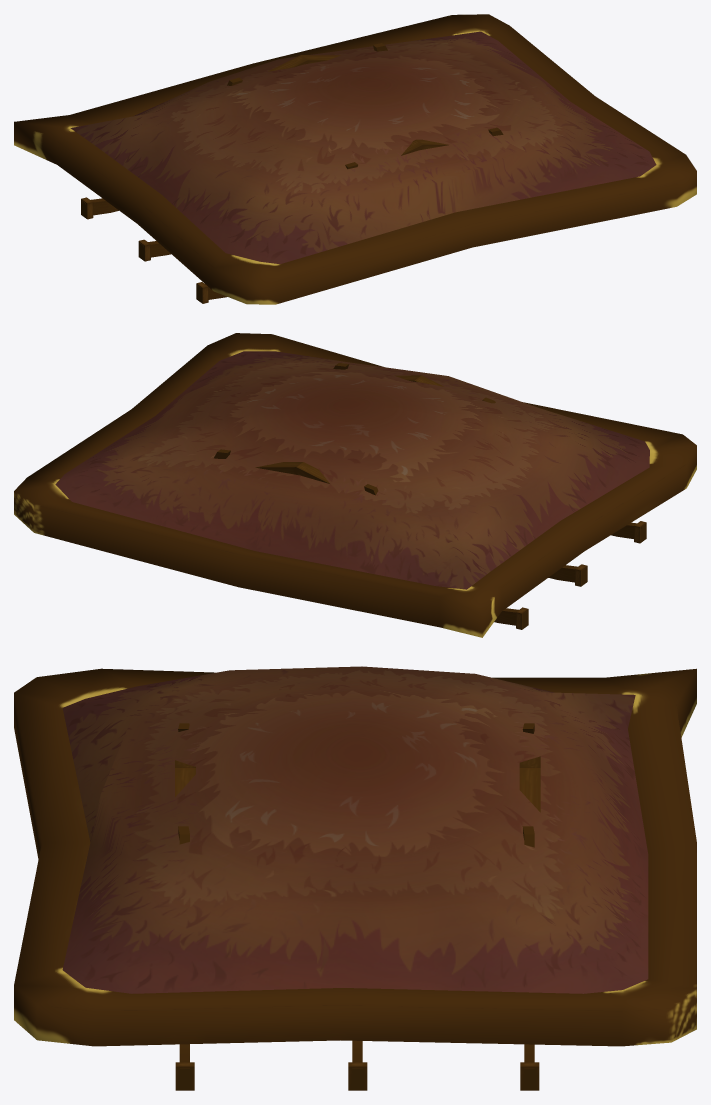
Rendered from Roof.fbx.
The picture shows the model from 3 angles, top to bottom: view 1: azimuth 30°, elevation 25°; view 2: azimuth 150°, elevation 25°; view 3: azimuth 270°, elevation 25°; orthographic projection. The views are drawn at different scales.
Parts seen in each view (by area): view 1: roof; view 2: roof; view 3: roof.
Boxes of the visible parts, x1=… form: roof: x1=14, y1=14, x2=696, y2=304; roof: x1=14, y1=333, x2=696, y2=637; roof: x1=14, y1=666, x2=696, y2=1090.
Size of the model in its own units: 74.31 by 18.54 by 62.58.
